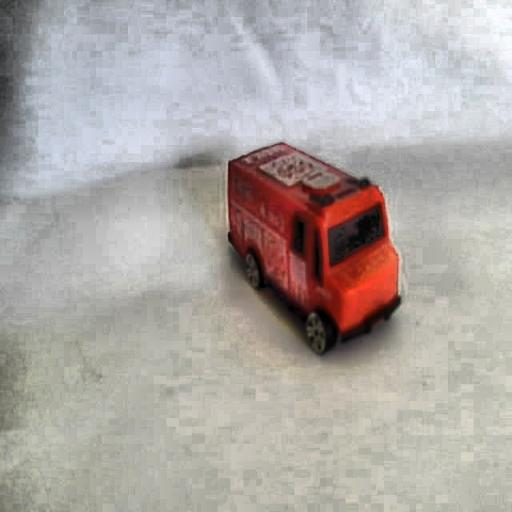fire_truck: (224, 139, 401, 353)
